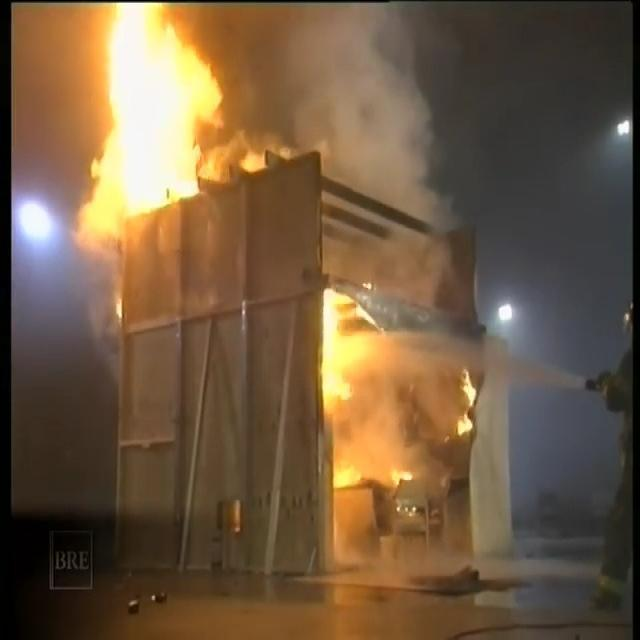Fire: (18, 7, 286, 306)
